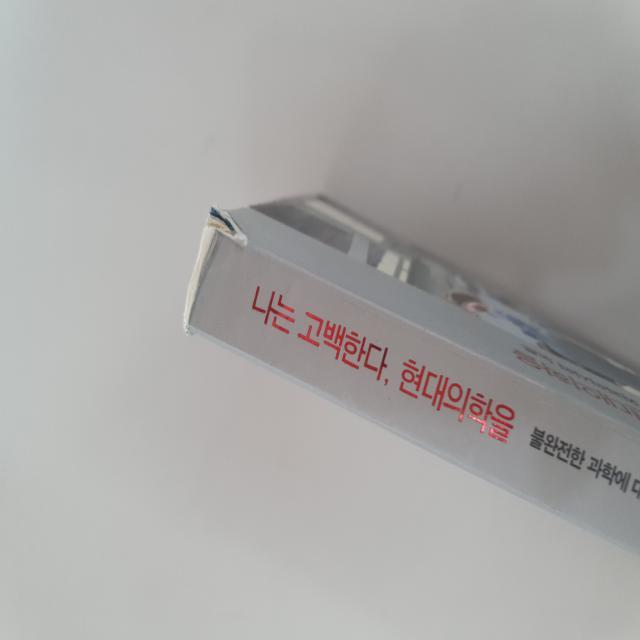Ripped: (178, 197, 252, 344)
